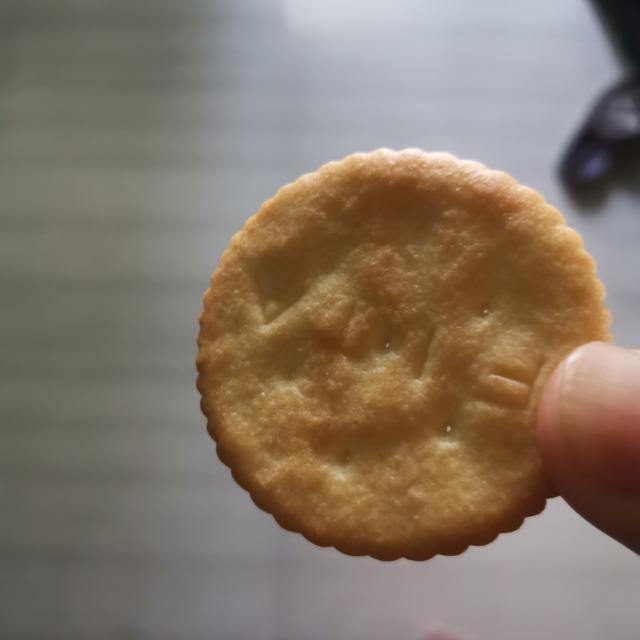Intact: (189, 140, 619, 570)
